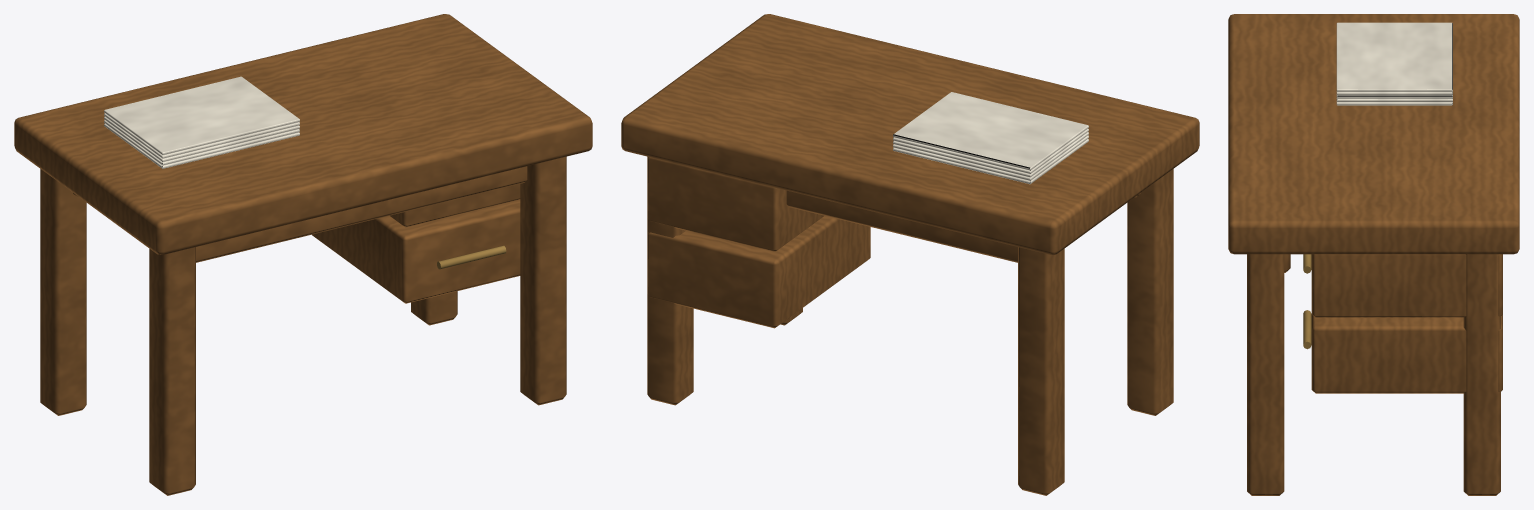
File: Furn_StaffDesk.fbx
3 renders of one model, left to right at view 1: azimuth 30°, elevation 25°; view 2: azimuth 150°, elevation 25°; view 3: azimuth 270°, elevation 25°, orthographic.
Visible parts, largest first — view 1: Furn_StaffDesk_Mesh; view 2: Furn_StaffDesk_Mesh; view 3: Furn_StaffDesk_Mesh.
Part boxes in pixels (x1,y1,x2,y2): Furn_StaffDesk_Mesh: [14, 14, 592, 495]; Furn_StaffDesk_Mesh: [621, 14, 1199, 495]; Furn_StaffDesk_Mesh: [1228, 14, 1519, 495].
Size of the model in its own units: 1.2 by 0.796 by 0.7.
3 materials, 3 textured.
